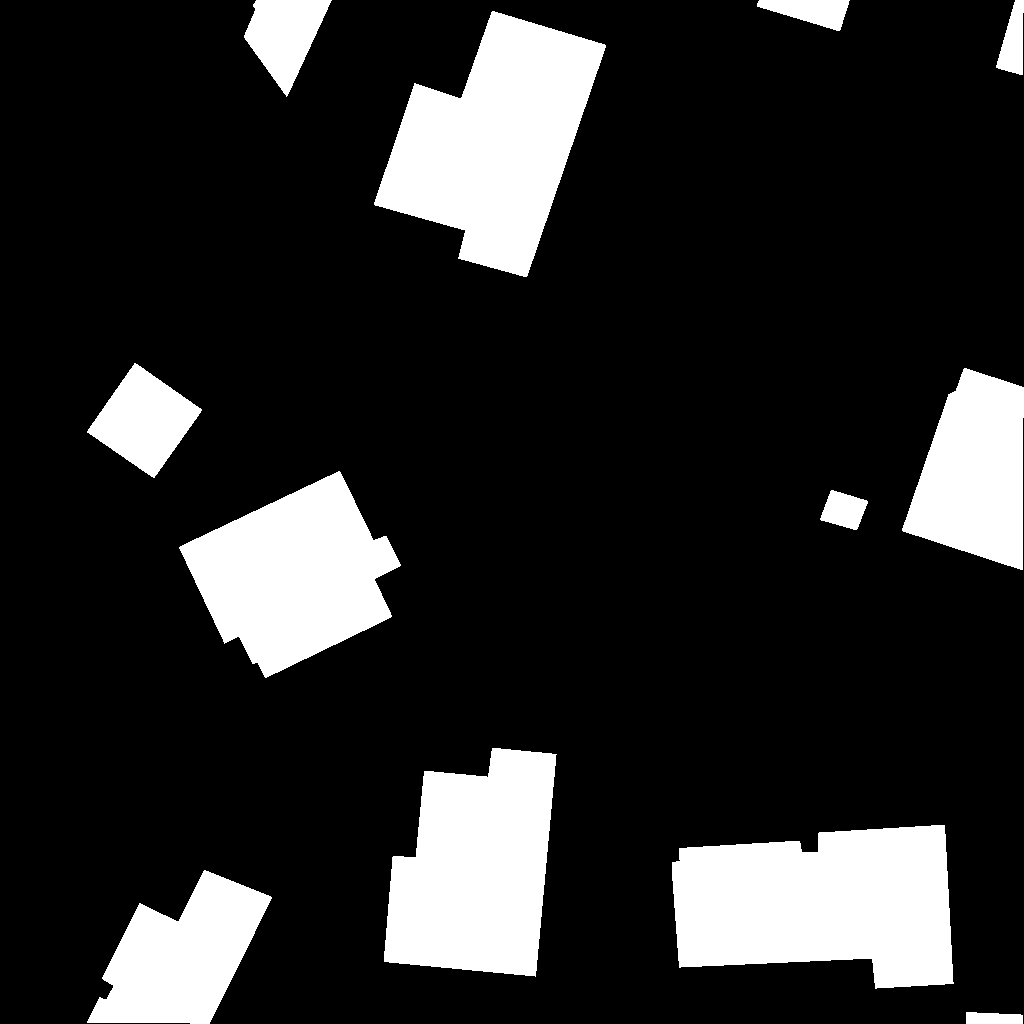building: (374, 11, 607, 278), (179, 471, 402, 679), (672, 825, 954, 989), (384, 748, 557, 977), (87, 870, 273, 1024), (902, 368, 1024, 571), (87, 363, 203, 479), (244, 0, 333, 98), (757, 0, 851, 32), (996, 0, 1024, 76), (820, 490, 869, 531), (966, 1012, 1024, 1024)
